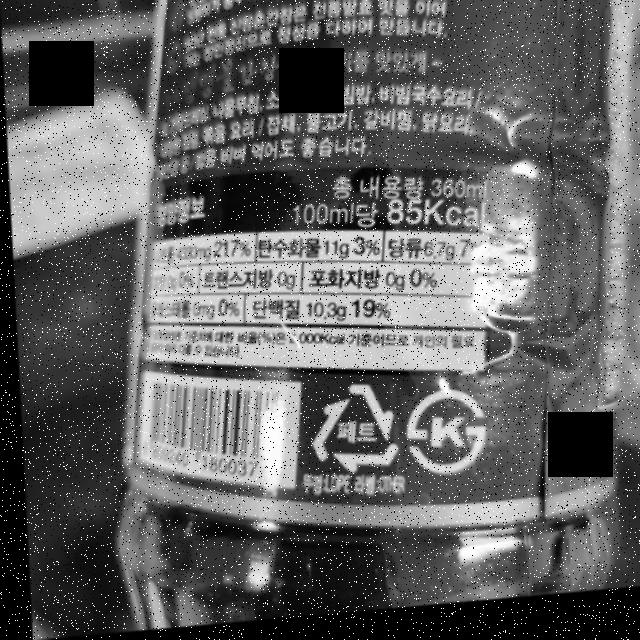PET: (299, 381, 397, 486)
